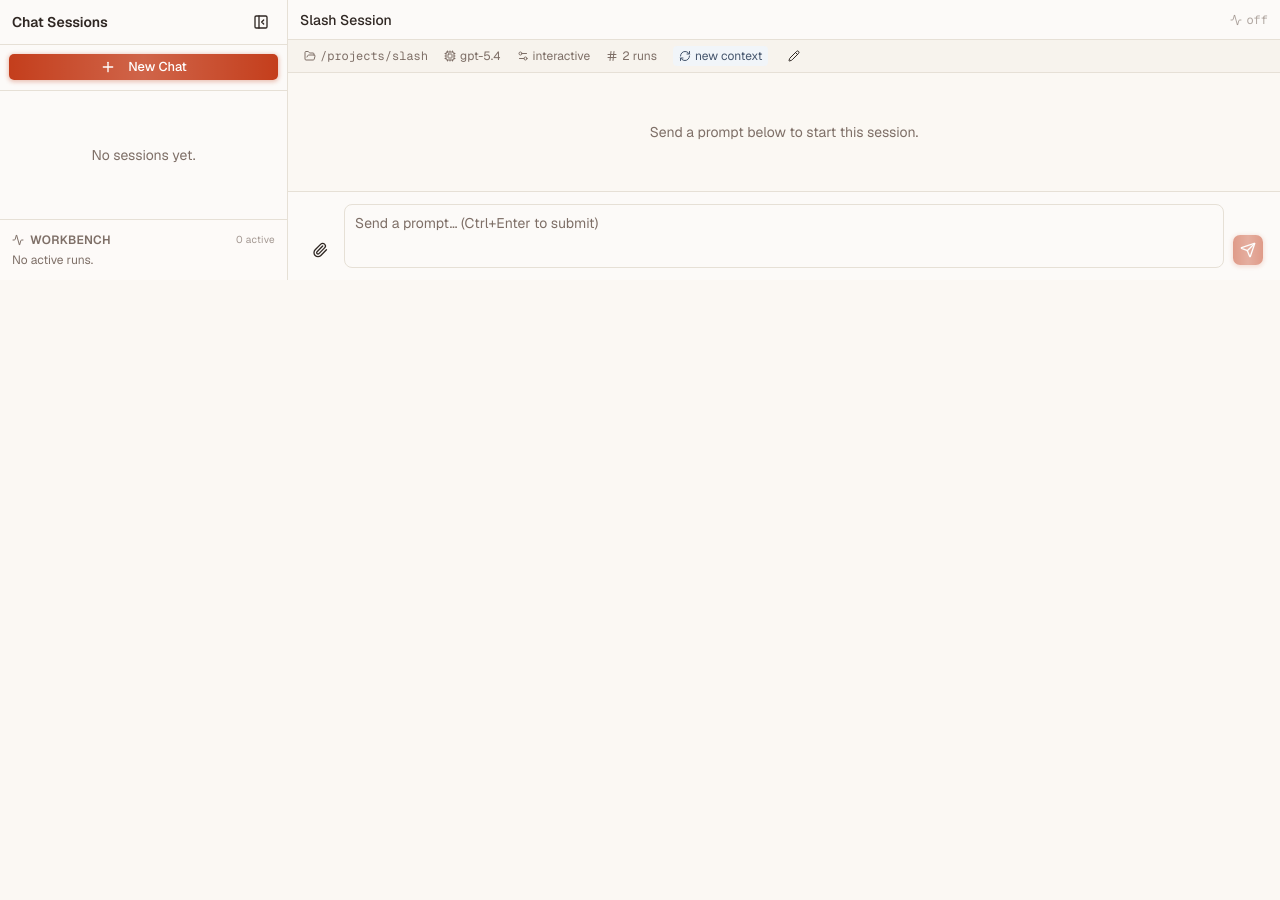
Test: ChatShell — slash command integration › shows installed skills from useSkillCatalog in the skills dialog
Step 1. Type "/skills" into the text box labelled "prompt" → (784, 236), box [344,204,1224,268]
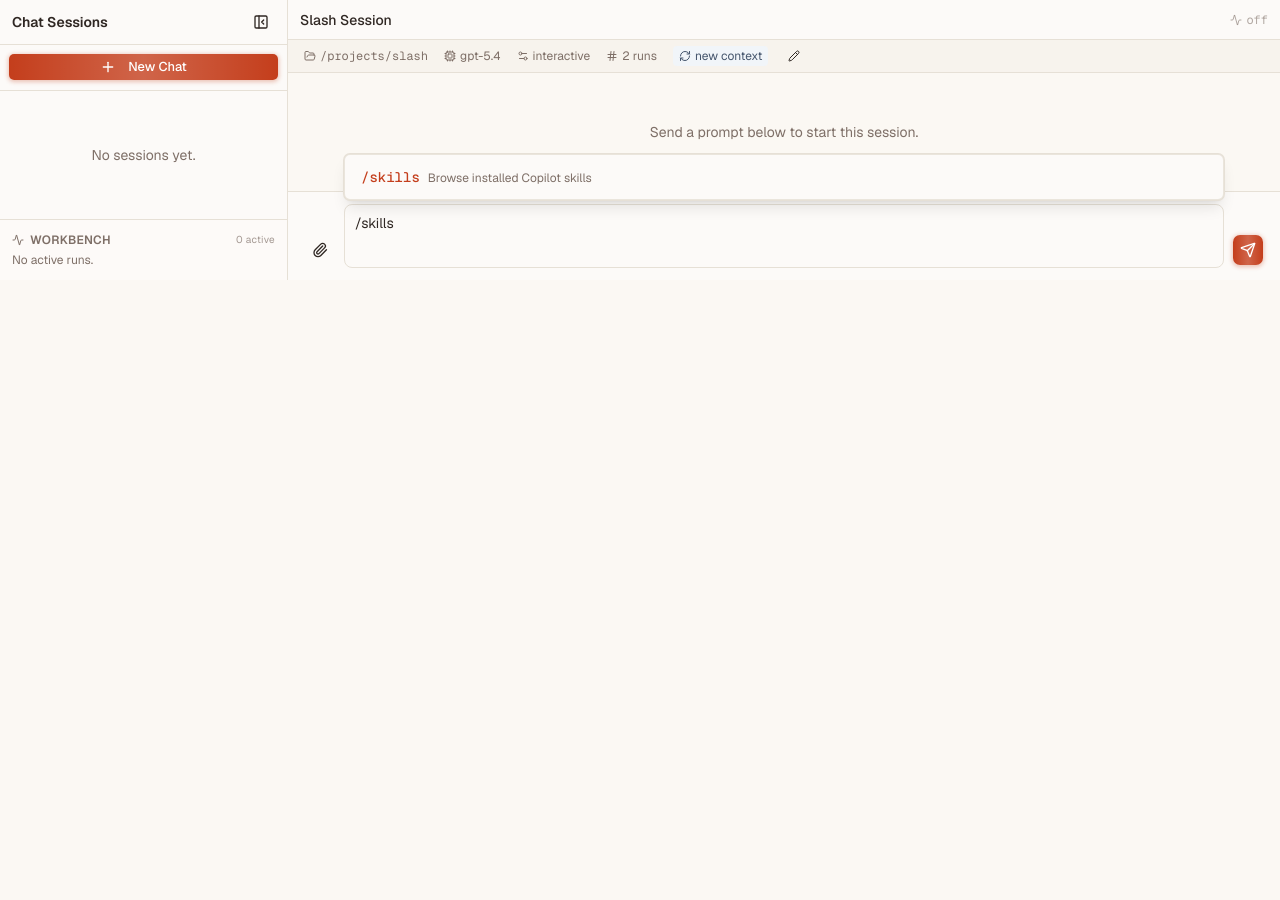
Step 2. Submit the form named "Prompt", box [288,191,1279,280]
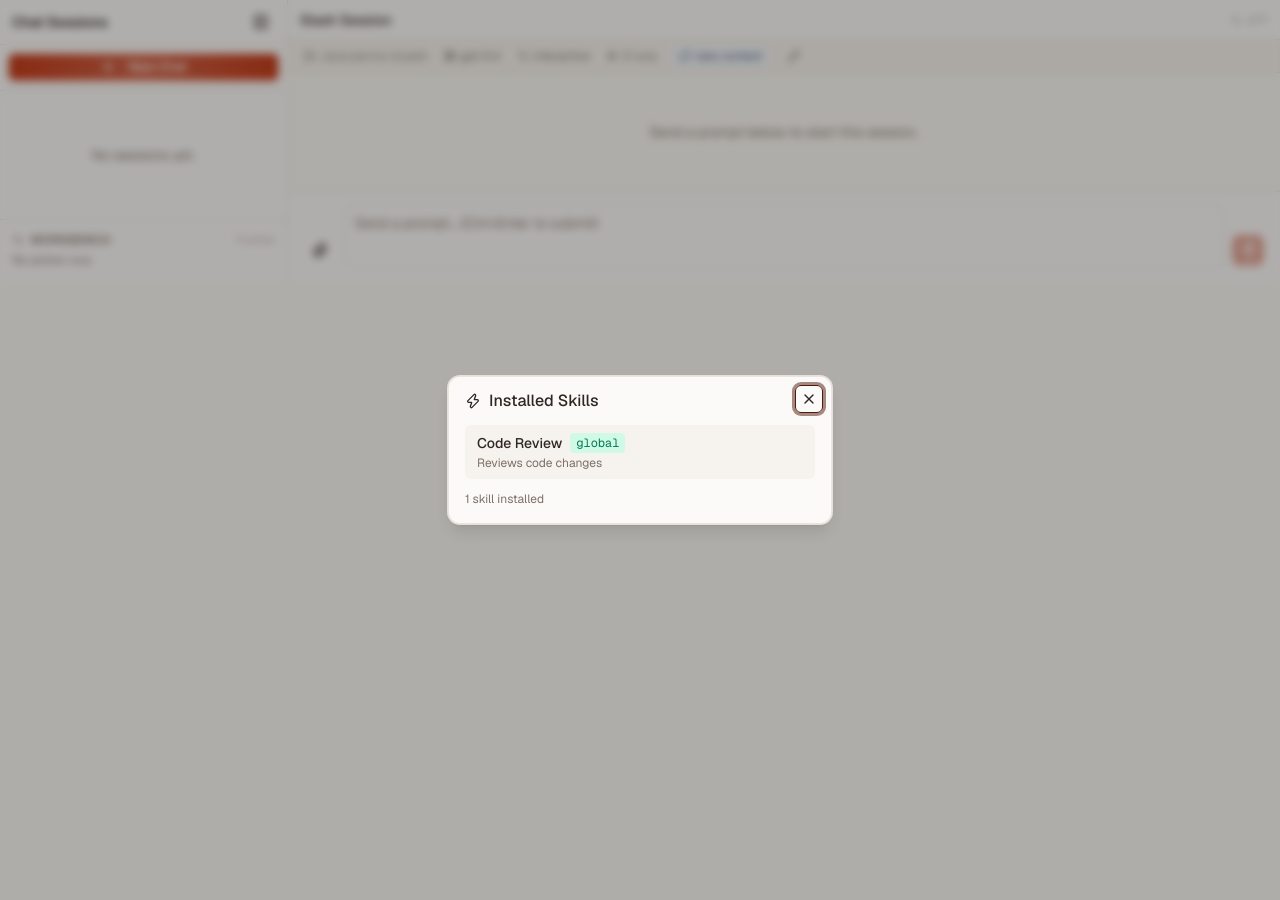
Expected: the list with test id "skills-list" is shown, [465,425,815,479]
Expected: the text "Code Review" is shown, [477,433,562,453]
